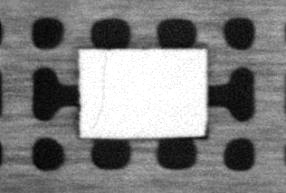DIE_CRACK: (89, 56, 107, 130)
